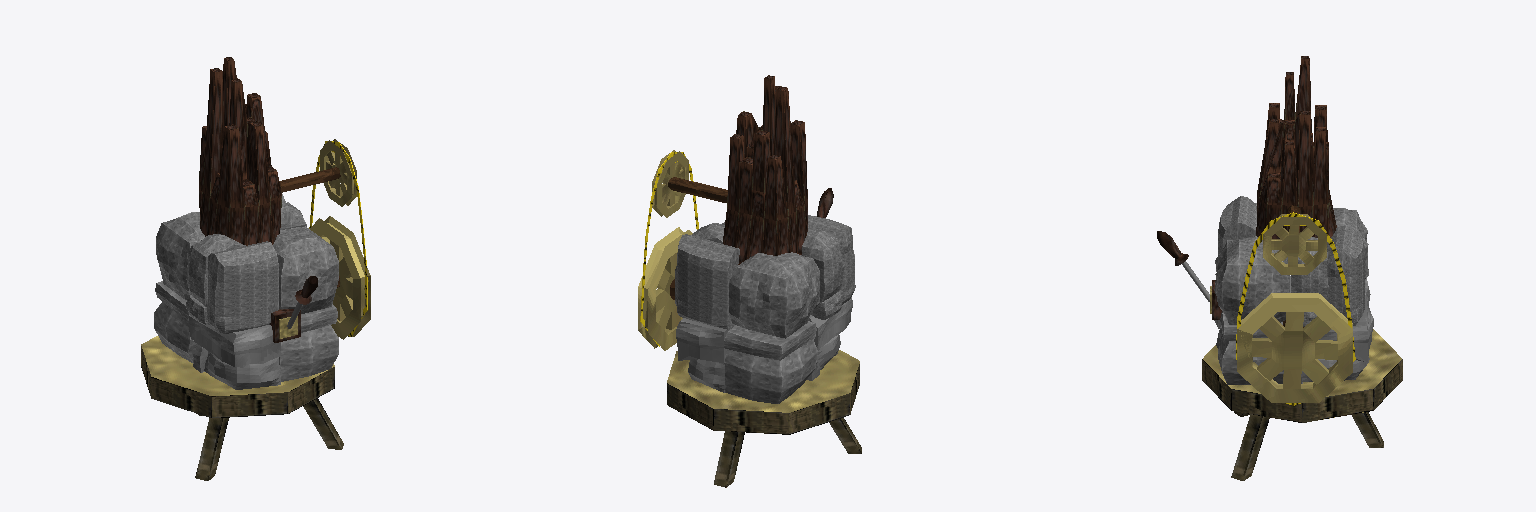
3 views of the same model, side by side, from view 1: azimuth 30°, elevation 25°; view 2: azimuth 150°, elevation 25°; view 3: azimuth 270°, elevation 25° (orthographic).
Visible parts, largest first — view 1: Osn, wood.016, cirlebig, cirle, circle, scmachine, lever; view 2: Osn, wood.016, cirlebig, cirle, circle, scmachine; view 3: wood.016, Osn, cirlebig, cirle, scmachine, lever.
Boxes of the visible parts, box(x1,y1,x2,y2) form: Osn: box(154, 194, 338, 389); wood.016: box(141, 57, 343, 480); cirlebig: box(310, 216, 370, 339); cirle: box(320, 139, 356, 206); circle: box(279, 167, 340, 192); scmachine: box(309, 141, 367, 336); lever: box(287, 276, 317, 328); Osn: box(675, 215, 855, 403); wood.016: box(667, 75, 861, 487); cirlebig: box(638, 227, 692, 350); cirle: box(652, 150, 688, 217); circle: box(668, 177, 727, 202); scmachine: box(640, 152, 698, 346); wood.016: box(1202, 56, 1402, 480); Osn: box(1214, 196, 1373, 384); cirlebig: box(1237, 293, 1352, 402); cirle: box(1263, 214, 1326, 274); scmachine: box(1236, 212, 1355, 405); lever: box(1157, 231, 1209, 301).
Size of the model in its own units: 0.8927 by 1.75 by 1.01.
Materials: 1 (1 with a texture image).